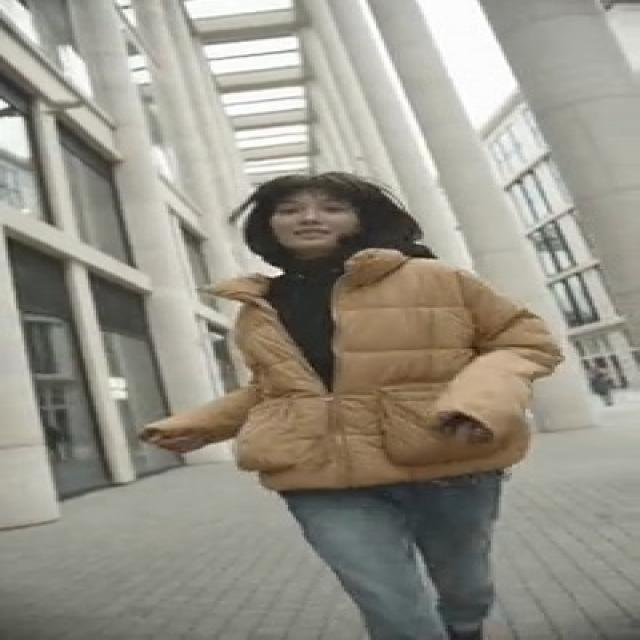Jacket_Wearer: (176, 248, 562, 468)
Person: (203, 170, 620, 640)
